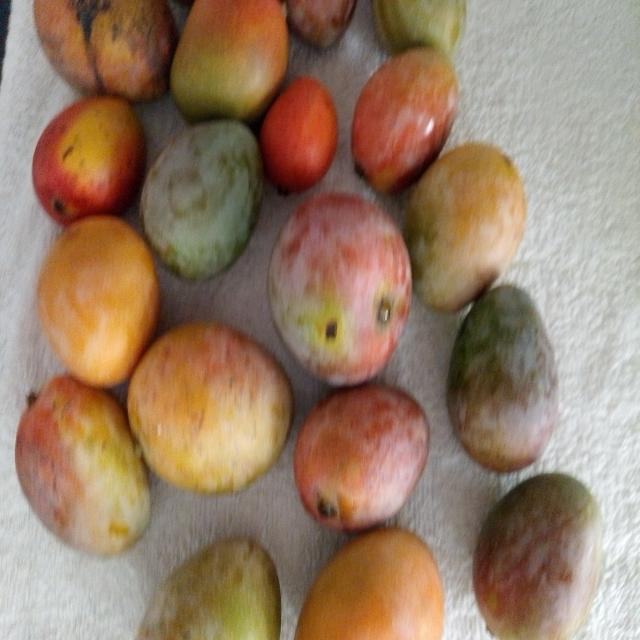mango: (128, 323, 293, 492), (268, 192, 411, 385), (15, 375, 150, 555), (473, 473, 603, 639), (37, 216, 160, 386), (447, 285, 558, 472), (404, 143, 526, 311), (294, 384, 429, 531), (140, 120, 263, 279), (295, 527, 443, 639), (352, 42, 456, 186), (32, 96, 146, 225), (34, 0, 177, 101), (137, 539, 281, 639), (171, 0, 288, 122), (373, 0, 466, 56), (287, 0, 355, 48)
